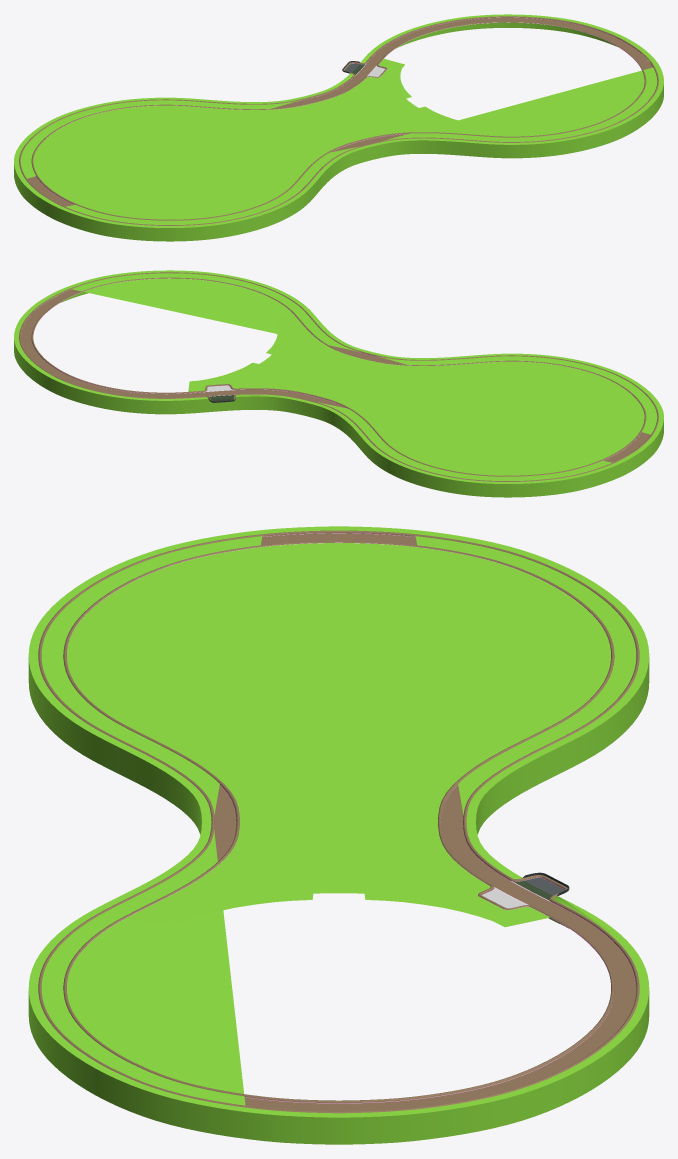
Rendered from Roads_Charger.fbx.
The picture shows the model from 3 angles, top to bottom: view 1: azimuth 30°, elevation 25°; view 2: azimuth 150°, elevation 25°; view 3: azimuth 270°, elevation 25°; orthographic projection. The views are drawn at different scales.
Visible parts, largest first — view 1: Plane, SM_SmallArea_.007; view 2: Plane, SM_SmallArea_.007; view 3: Plane, SM_SmallArea_.007.
Boxes of the visible parts, x1,y1,x2,y2 form: Plane: (14,14,663,241); SM_SmallArea_.007: (19,16,658,225); Plane: (14,270,663,497); SM_SmallArea_.007: (19,272,658,481); Plane: (28,526,649,1144); SM_SmallArea_.007: (38,530,639,1113).
Bounding box in the file's own units: 54755 × 1250 × 24274.
